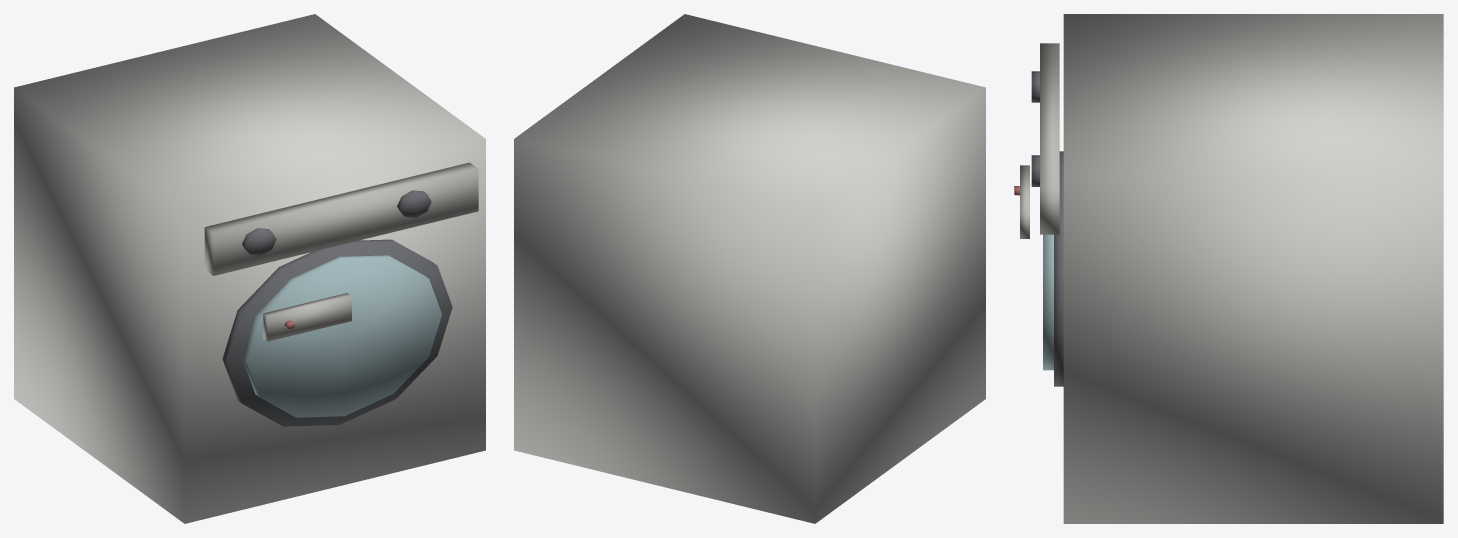
File: domestic_dryer__squat.glb
The picture shows the model from 3 angles, left to right: view 1: azimuth 30°, elevation 25°; view 2: azimuth 150°, elevation 25°; view 3: azimuth 270°, elevation 25°; orthographic projection. The views are drawn at different scales.
Visible parts, largest first — view 1: world; view 2: world; view 3: world.
Boxes of the visible parts, x1,y1,x2,y2 form: world: (14,14,485,523); world: (514,14,985,523); world: (1014,14,1443,523).
Bounding box in the file's own units: 0.748 × 0.7392 × 0.83.
